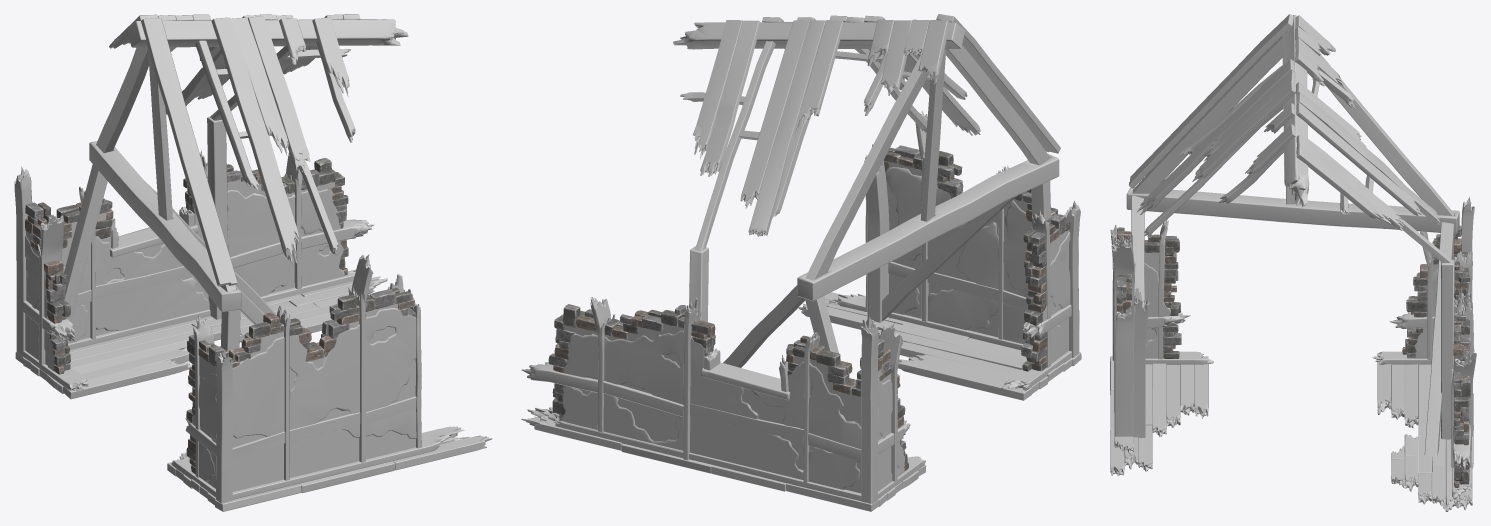
3 views of the same model, side by side, from view 1: azimuth 30°, elevation 25°; view 2: azimuth 150°, elevation 25°; view 3: azimuth 270°, elevation 25° (orthographic). The views are drawn at different scales.
Parts seen in each view (by area): view 1: SM_House_05_Dmg_LOD0; view 2: SM_House_05_Dmg_LOD0; view 3: SM_House_05_Dmg_LOD0.
Boxes of the visible parts, left/top/right/bottom form: SM_House_05_Dmg_LOD0: left=14, top=14, right=492, bottom=511; SM_House_05_Dmg_LOD0: left=521, top=14, right=1081, bottom=511; SM_House_05_Dmg_LOD0: left=1110, top=14, right=1476, bottom=511.
Bounding box in the file's own units: 6.43 × 7.04 × 6.51.
